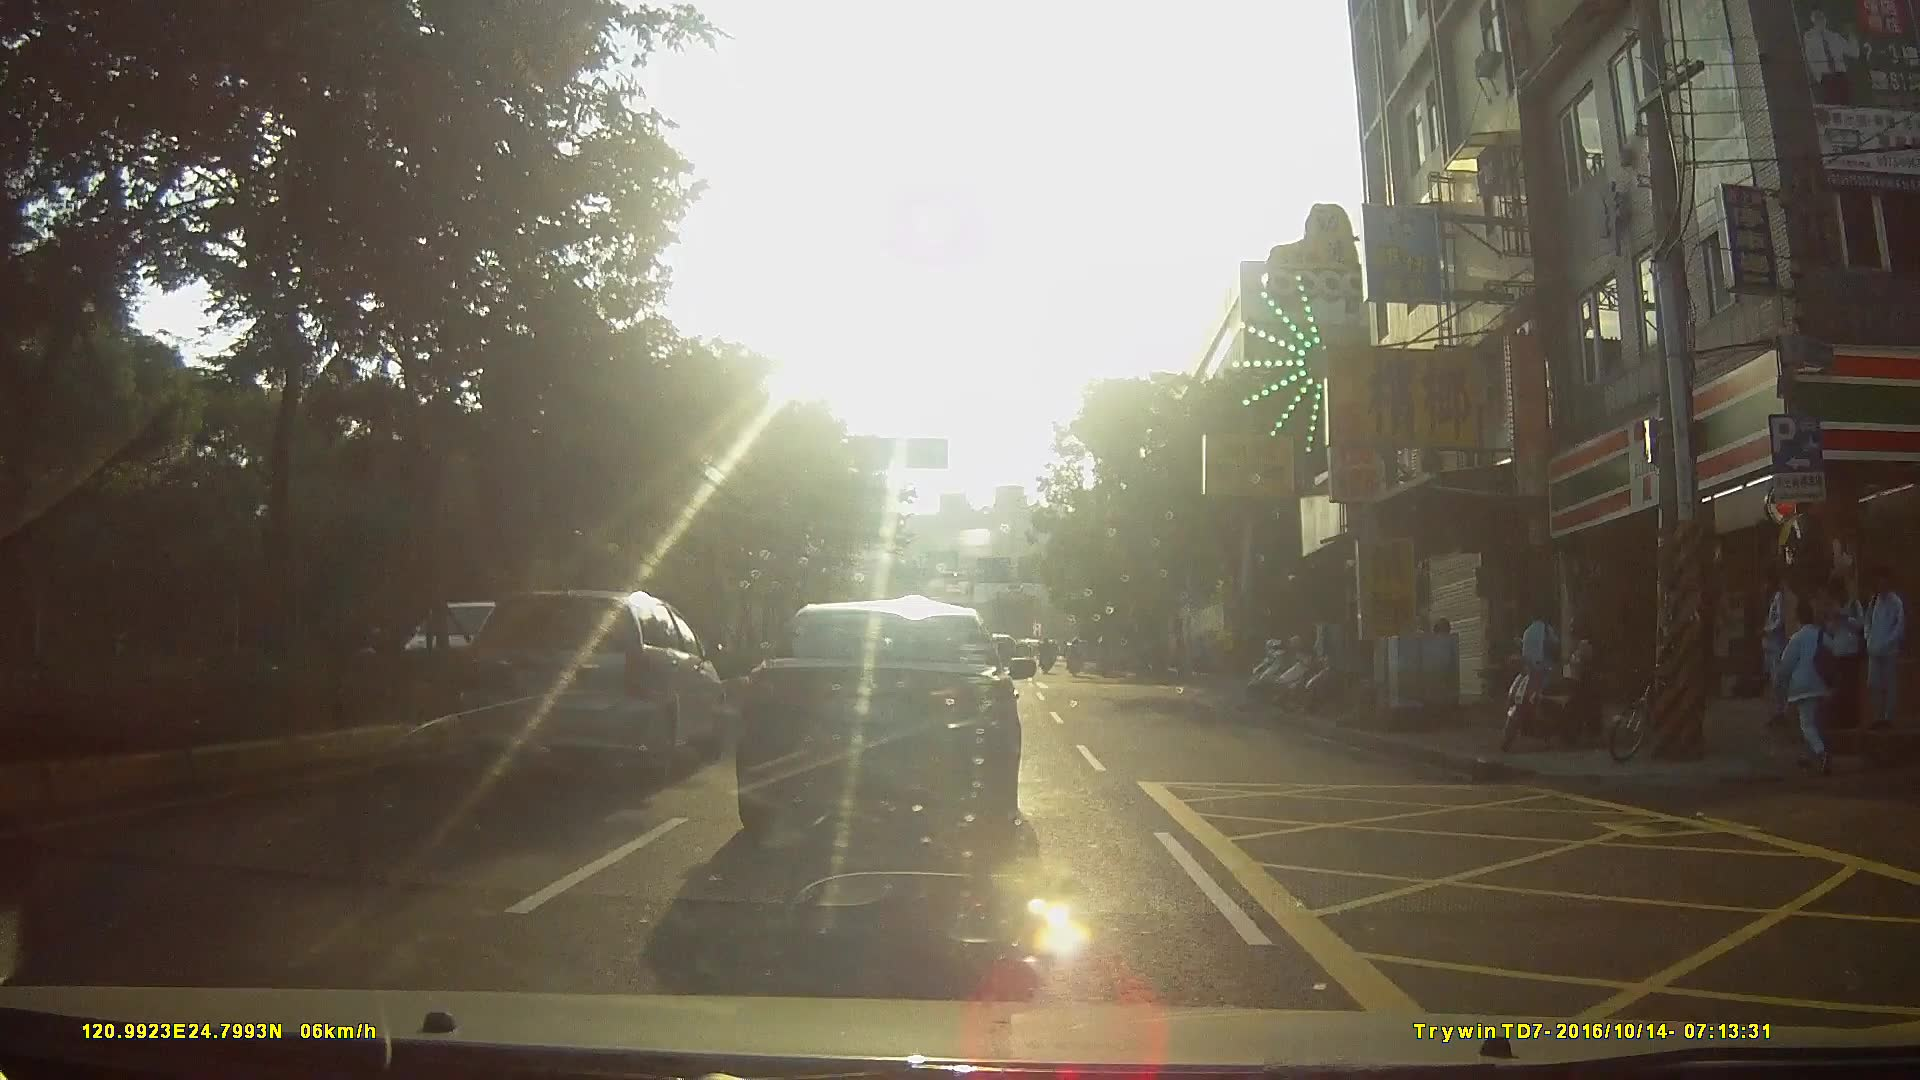pedestrian: (1787, 597, 1856, 777), (1757, 552, 1804, 746), (1857, 566, 1906, 729), (1553, 617, 1605, 751), (1518, 604, 1573, 719)
vehicle: (734, 600, 1043, 856), (444, 586, 740, 779)
